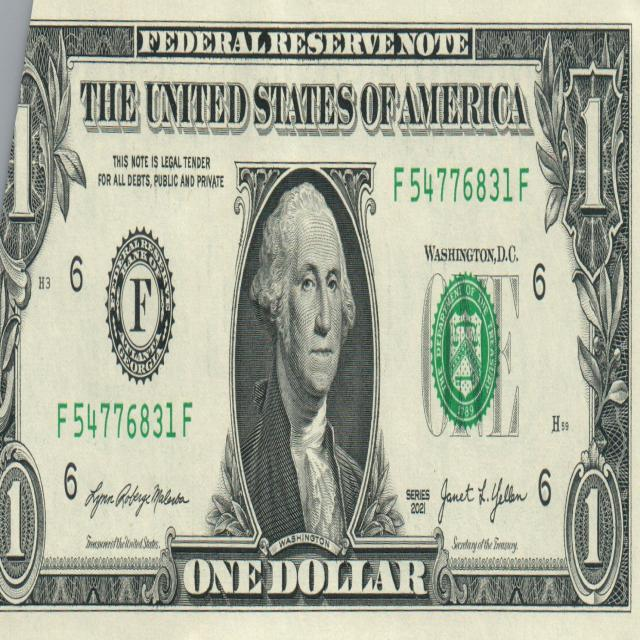SerialNumber: (58, 402, 192, 439), (394, 168, 514, 203)
